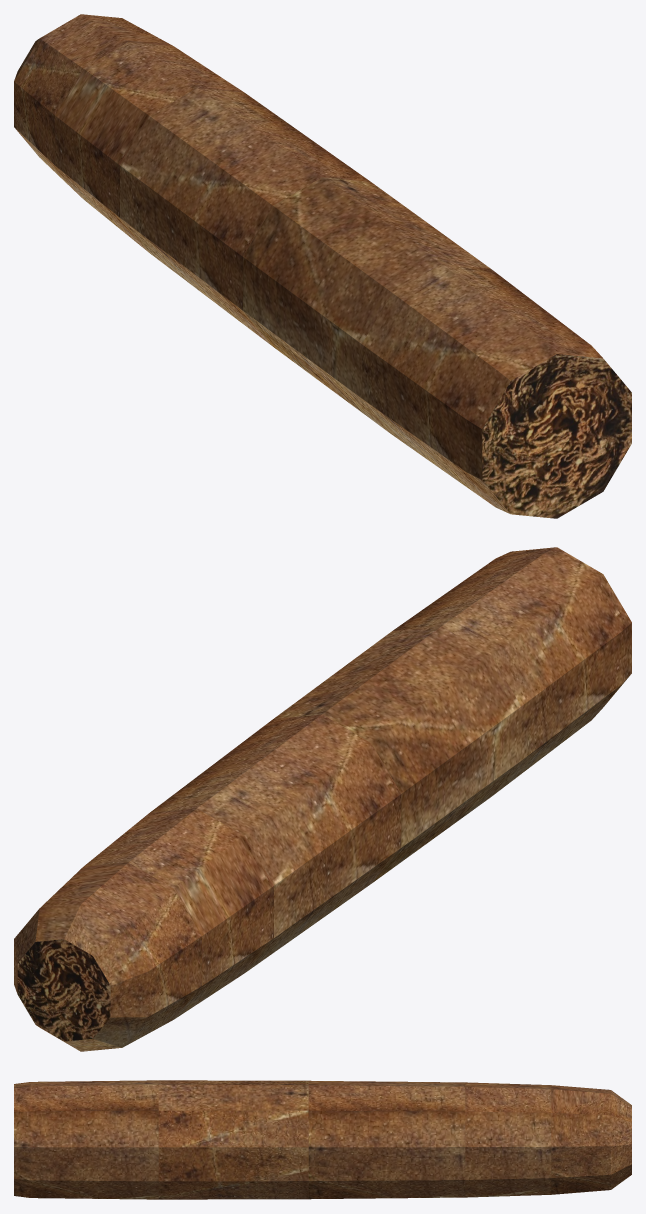
File: zigarre ganz ALONE fertig.fbx
3 views of the same model, one above another, from view 1: azimuth 30°, elevation 25°; view 2: azimuth 150°, elevation 25°; view 3: azimuth 270°, elevation 25° (orthographic). The views are drawn at different scales.
Parts seen in each view (by area): view 1: Cylinder; view 2: Cylinder; view 3: Cylinder.
Part boxes in pixels (x1=…): Cylinder: x1=14, y1=14, x2=631, y2=518; Cylinder: x1=14, y1=547, x2=631, y2=1051; Cylinder: x1=14, y1=1080, x2=631, y2=1199.
Bounding box in the file's own units: 0.0198 × 0.0209 × 0.1061.
